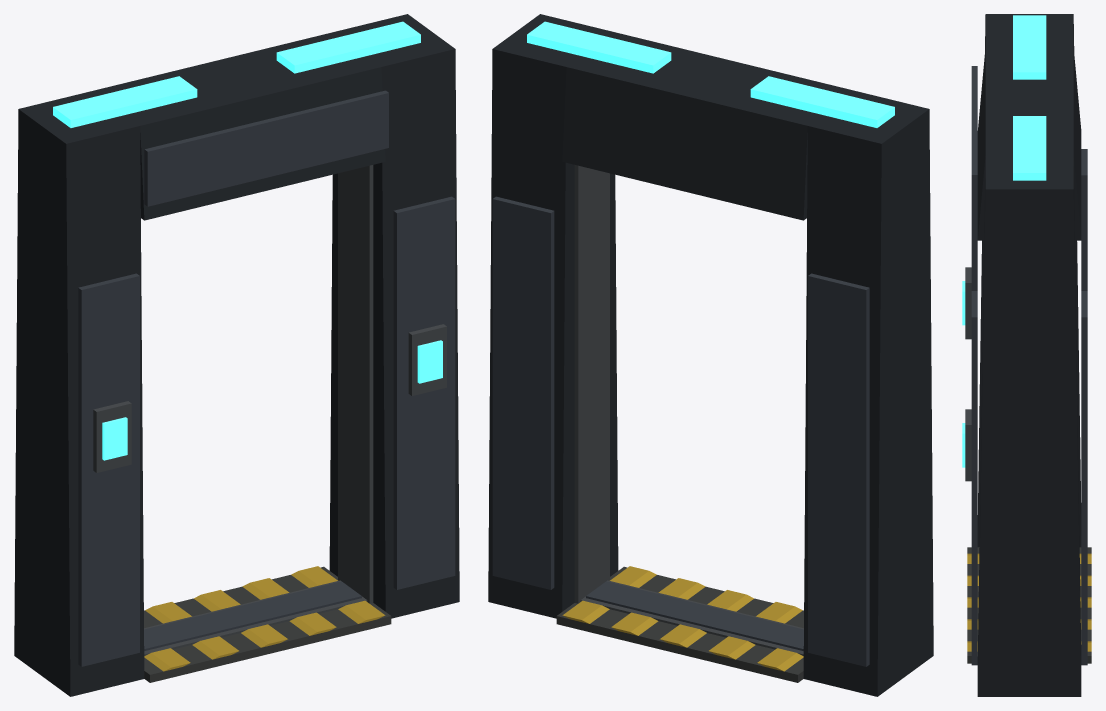
The model's file is device_door_open.glb.
3 renders of one model, left to right at view 1: azimuth 30°, elevation 25°; view 2: azimuth 150°, elevation 25°; view 3: azimuth 270°, elevation 25°, orthographic. The views are drawn at different scales.
Parts seen in each view (by area): view 1: device_door_mesh; view 2: device_door_mesh; view 3: device_door_mesh.
Boxes of the visible parts, x1,y1,x2,y2 form: device_door_mesh: (14, 14, 459, 696); device_door_mesh: (488, 14, 933, 696); device_door_mesh: (962, 14, 1091, 696).
Size of the model in its own units: 2 by 2.74 by 0.625.
